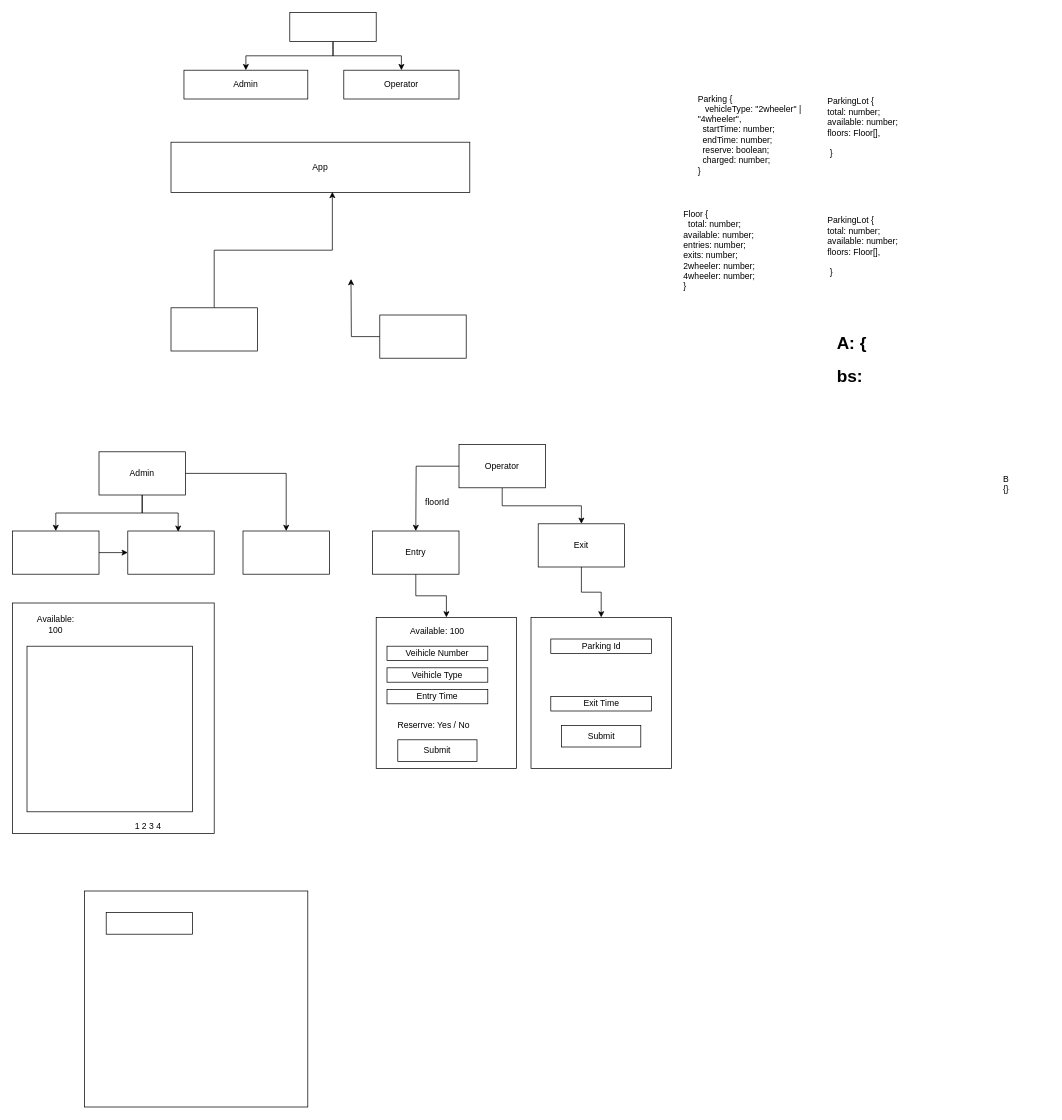
The diagram is 1062 pixels wide and 1120 high, and some of its shapes have lost their labels. The centre of each missing label's shape, as x and y in pixels:
"API" belongs at (x=213, y=329).
"Car1 entrytime exit time" belongs at (x=109, y=728).
"Overview / Summary" belongs at (x=55, y=552).
"Reporting" belongs at (x=285, y=552).
"Reserve Parking" belongs at (x=170, y=552).
"Router" belongs at (x=332, y=26).
"Session" belongs at (x=422, y=336).
